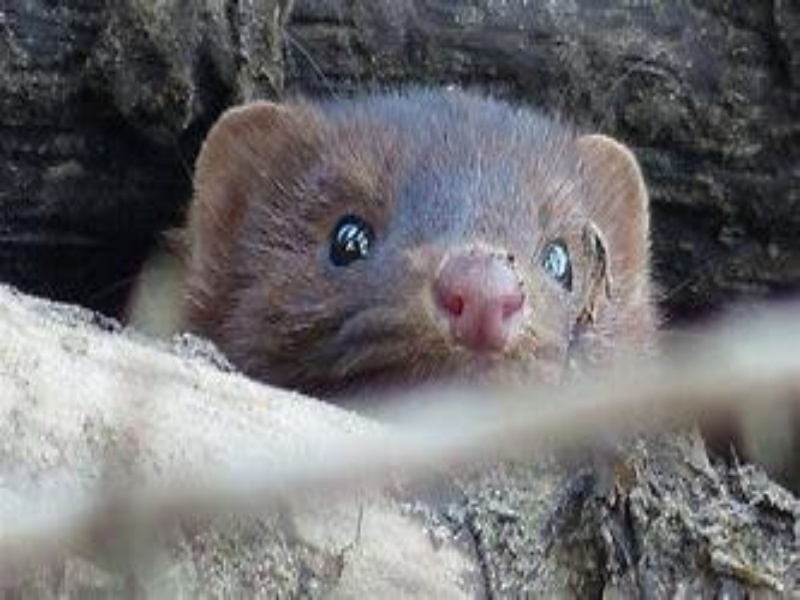minkish: (177, 89, 653, 433)
